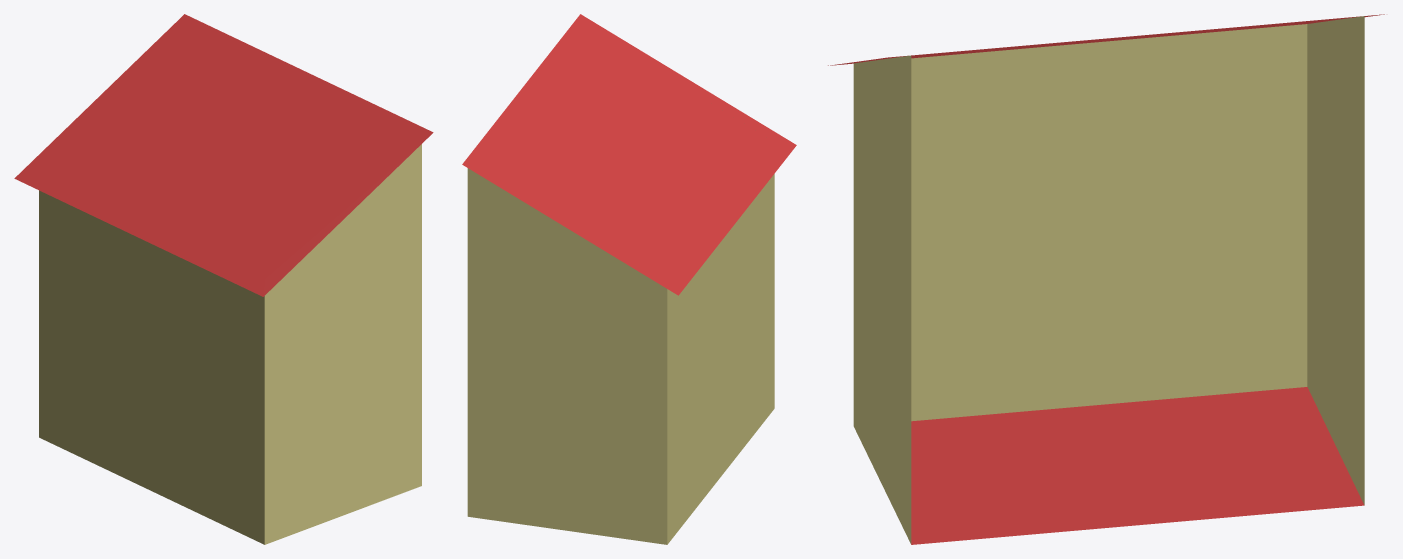
3 views of the same model, side by side, from view 1: azimuth 30°, elevation 25°; view 2: azimuth 150°, elevation 25°; view 3: azimuth 270°, elevation 25° (orthographic). The views are drawn at different scales.
Size of the model in its own units: 8.5 by 11.76 by 11.28.
